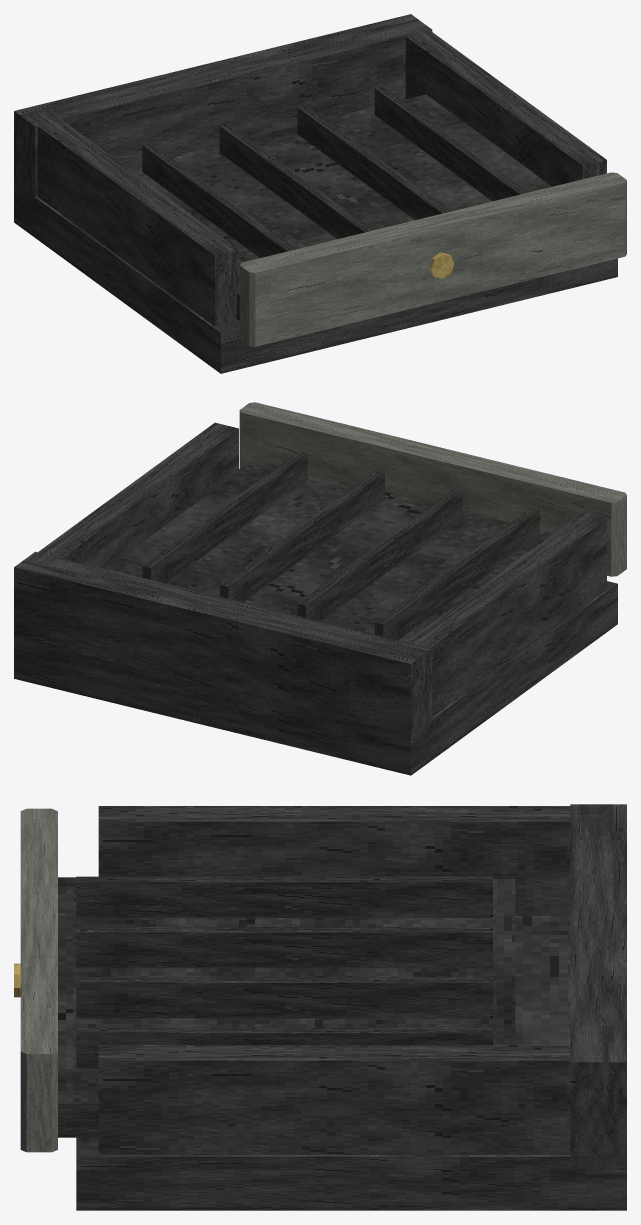
Rendered from cash_drawer.glb.
3 renders of one model, top to bottom at view 1: azimuth 30°, elevation 25°; view 2: azimuth 150°, elevation 25°; view 3: azimuth 270°, elevation 25°, orthographic. The views are drawn at different scales.
Visible parts, largest first — view 1: Body, Drawer; view 2: Body, Drawer; view 3: Body, Drawer.
Part boxes in pixels (box(x1,y1,x2,y2)): Body: box(14, 14, 617, 373); Drawer: box(127, 86, 626, 346); Body: box(14, 422, 617, 775); Drawer: box(106, 402, 626, 641); Body: box(76, 804, 626, 1210); Drawer: box(14, 808, 515, 1152).
Bounding box in the file's own units: 0.41 × 0.1115 × 0.412.
Materials: 1 (1 with a texture image).
